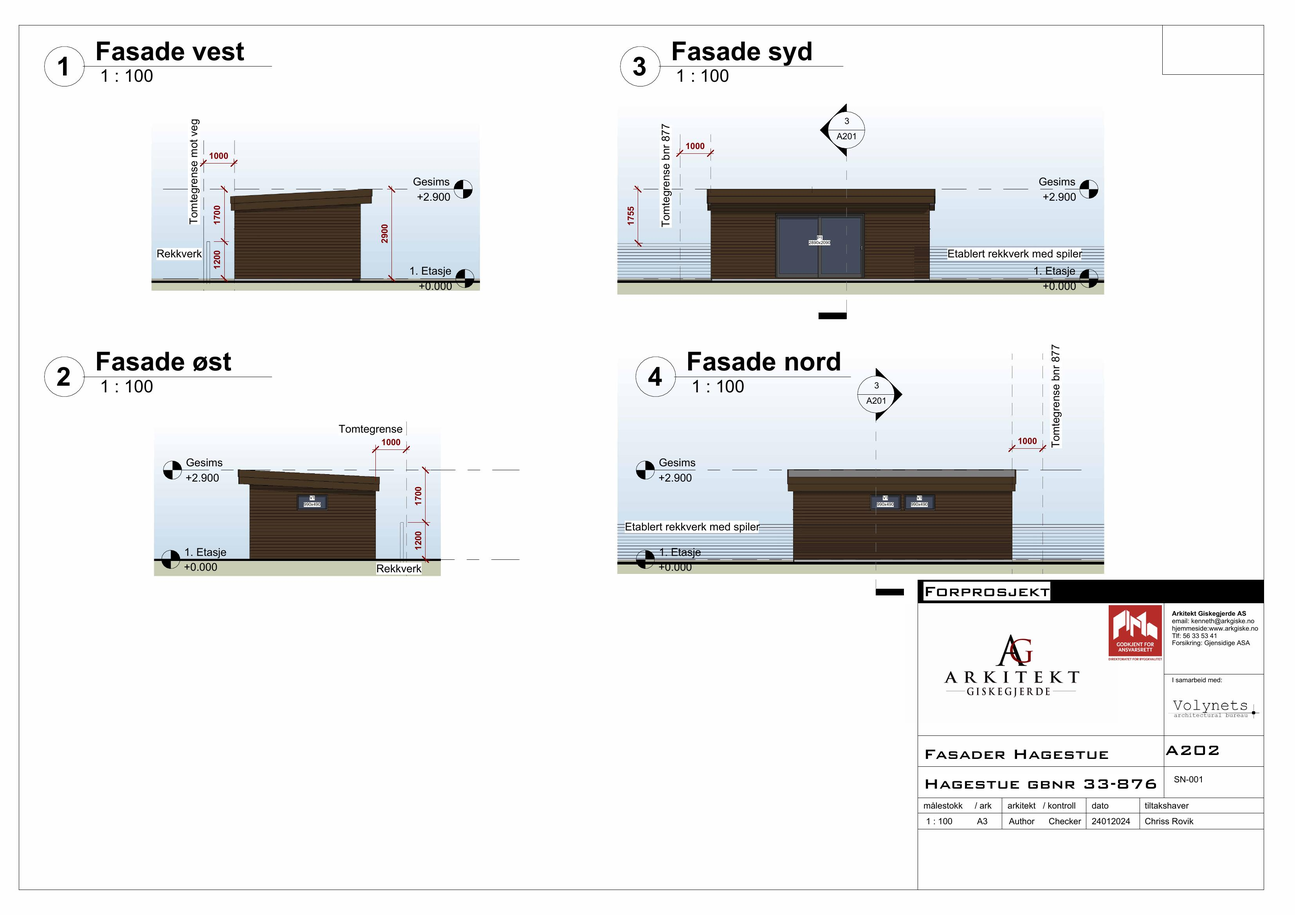fasade: (785, 467, 1020, 577), (707, 188, 938, 297), (236, 467, 382, 578), (230, 188, 374, 291)
